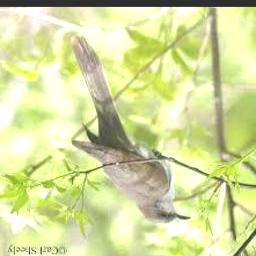Cuckoo: (71, 35, 191, 223)
